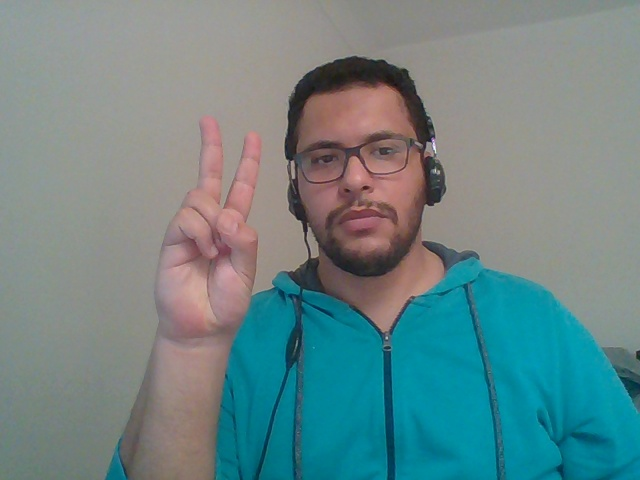vectory: (132, 106, 281, 371)
